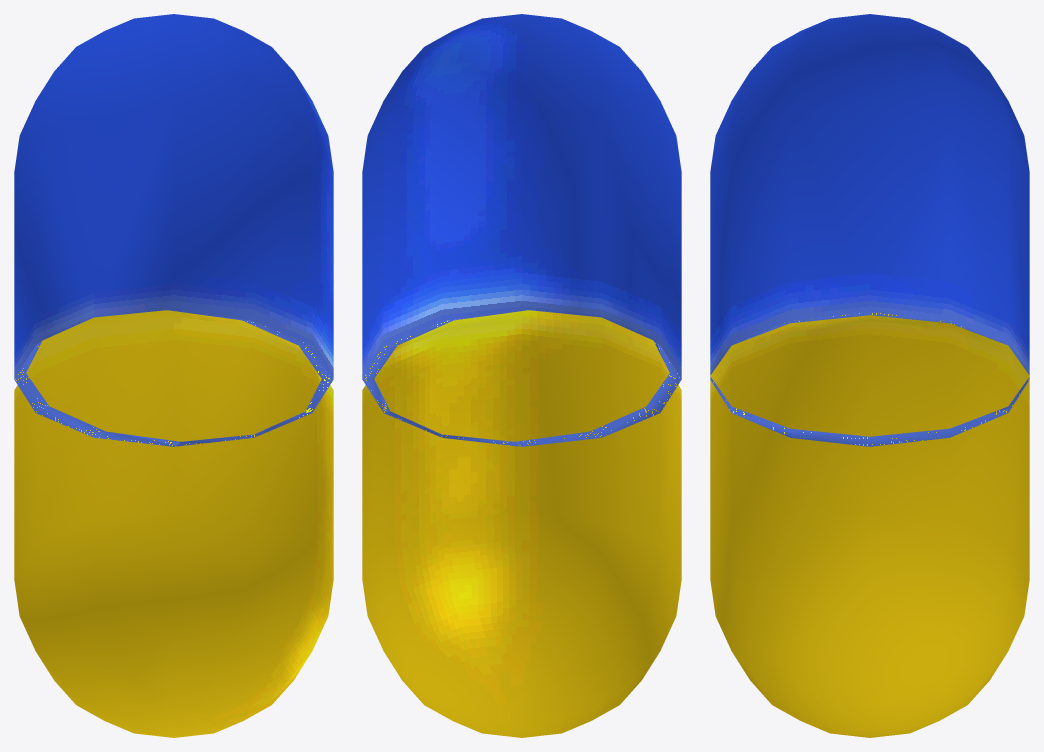
File: ps2_save-icons_akirapsychoball.glb
3 views of the same model, side by side, from view 1: azimuth 30°, elevation 25°; view 2: azimuth 150°, elevation 25°; view 3: azimuth 270°, elevation 25° (orthographic).
Parts seen in each view (by area): view 1: akira.ico; view 2: akira.ico; view 3: akira.ico.
Boxes of the visible parts, bbox=[...] form: akira.ico: bbox=[14, 14, 333, 737]; akira.ico: bbox=[362, 14, 681, 737]; akira.ico: bbox=[710, 14, 1029, 737].
Bounding box in the file's own units: 2.08 × 4.98 × 2.08.
1 material, 1 textured.
